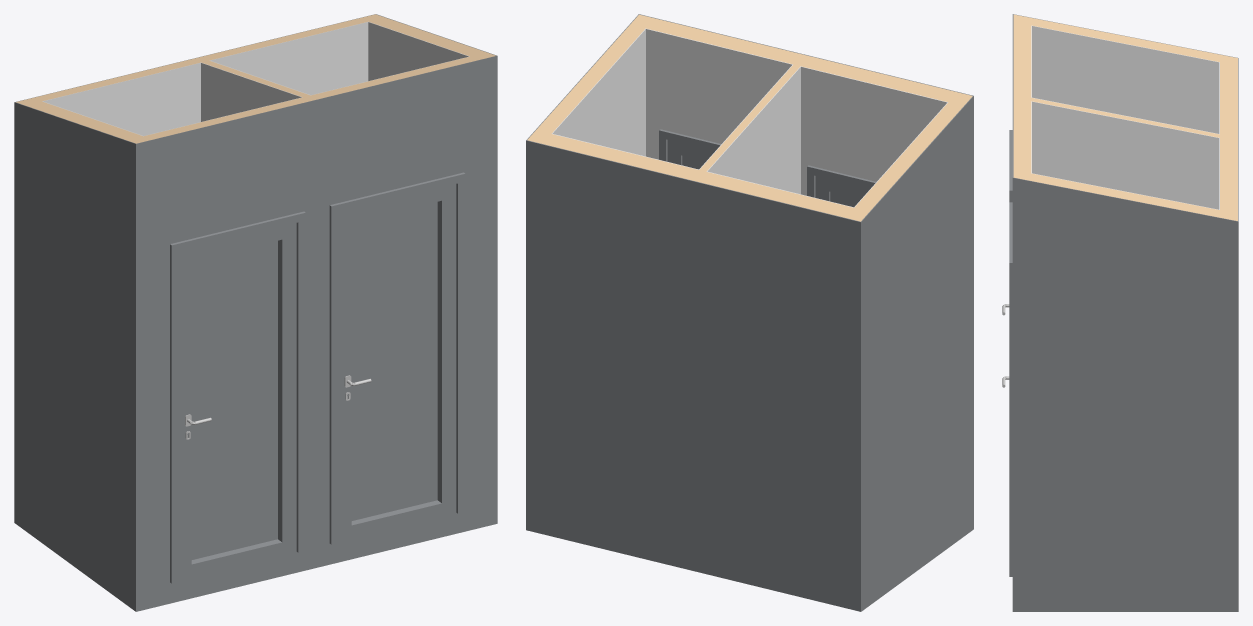
Rendered from mazesnis_(1,4x2,4)_R00.fbx.
3 renders of one model, left to right at view 1: azimuth 30°, elevation 25°; view 2: azimuth 150°, elevation 25°; view 3: azimuth 270°, elevation 25°, orthographic. The views are drawn at different scales.
Parts seen in each view (by area): view 1: IfcWall/Part:2319977, IfcWall/Part:2368366, IfcDoor/Durys išorinės:800x2100x120 (dešininės nepermat, IfcDoor/Durys išorinės:800x2100x120 (dešininės nepermatomos, IfcWall/Part:2319982, IfcWall/Part:2319979, IfcWall/Part:2319968, IfcWall/Part:2319984, IfcWall/Part:2319978, IfcWall/Part:2319981, IfcWall/Part:2368367, IfcWall/Part:2319983; view 2: IfcWall/Part:2319983, IfcWall/Part:2368366, IfcWall/Part:2319976, IfcWall/Part:2319968, IfcWall/Part:2319979, IfcWall/Part:2319984, IfcWall/Part:2319978, IfcWall/Part:2319981, IfcWall/Part:2368367, IfcDoor/Durys išorinės:800x2100x120 (dešininės nepermatomos, IfcDoor/Durys išorinės:800x2100x120 (dešininės nepermat, IfcWall/Part:2319969 (+1 smaller); view 3: IfcWall/Part:2319980, IfcWall/Part:2319967, IfcWall/Part:2368365, IfcWall/Part:2319978, IfcWall/Part:2319984, IfcWall/Part:2319981, IfcWall/Part:2368367, IfcDoor/Durys išorinės:800x2100x120 (dešininės nepermat, IfcWall/Part:2319969, IfcWall/Part:2319983.
Part boxes in pixels (<box>): IfcWall/Part:2319977: <box>135,56,496,611</box>; IfcWall/Part:2368366: <box>14,102,135,611</box>; IfcDoor/Durys išorinės:800x2100x120 (dešininės nepermat: <box>329,172,465,544</box>; IfcDoor/Durys išorinės:800x2100x120 (dešininės nepermatomos: <box>170,211,305,583</box>; IfcWall/Part:2319982: <box>43,21,368,135</box>; IfcWall/Part:2319979: <box>368,22,469,80</box>; IfcWall/Part:2319968: <box>201,62,301,121</box>; IfcWall/Part:2319984: <box>16,14,384,105</box>; IfcWall/Part:2319978: <box>127,56,479,143</box>; IfcWall/Part:2319981: <box>369,17,495,59</box>; IfcWall/Part:2368367: <box>25,101,142,140</box>; IfcWall/Part:2319983: <box>14,14,375,522</box>; IfcWall/Part:2319983: <box>526,140,861,611</box>; IfcWall/Part:2368366: <box>861,96,973,610</box>; IfcWall/Part:2319976: <box>646,28,947,195</box>; IfcWall/Part:2319968: <box>707,66,800,194</box>; IfcWall/Part:2319979: <box>552,28,645,156</box>; IfcWall/Part:2319984: <box>527,130,869,221</box>; IfcWall/Part:2319978: <box>646,18,972,105</box>; IfcWall/Part:2319981: <box>536,14,654,133</box>; IfcWall/Part:2368367: <box>854,102,963,211</box>; IfcDoor/Durys išorinės:800x2100x120 (dešininės nepermatomos: <box>807,165,876,207</box>; IfcDoor/Durys išorinės:800x2100x120 (dešininės nepermat: <box>659,129,721,169</box>; IfcWall/Part:2319969: <box>699,64,800,171</box>; IfcWall/Part:2319980: <box>1012,177,1237,611</box>; IfcWall/Part:2319967: <box>1032,101,1219,209</box>; IfcWall/Part:2368365: <box>1032,25,1219,133</box>; IfcWall/Part:2319978: <box>1013,14,1031,173</box>; IfcWall/Part:2319984: <box>1220,54,1237,220</box>; IfcWall/Part:2319981: <box>1013,170,1219,217</box>; IfcWall/Part:2368367: <box>1031,18,1219,61</box>; IfcDoor/Durys išorinės:800x2100x120 (dešininės nepermat: <box>1009,202,1012,576</box>; IfcWall/Part:2319969: <box>1031,97,1219,137</box>; IfcWall/Part:2319983: <box>1238,58,1238,611</box>.
Bounding box in the file's own units: 240 × 298 × 147.
